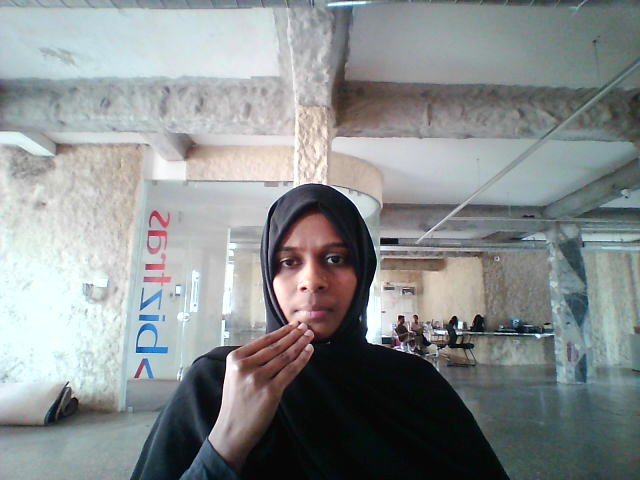THANKS: (182, 317, 348, 460)
